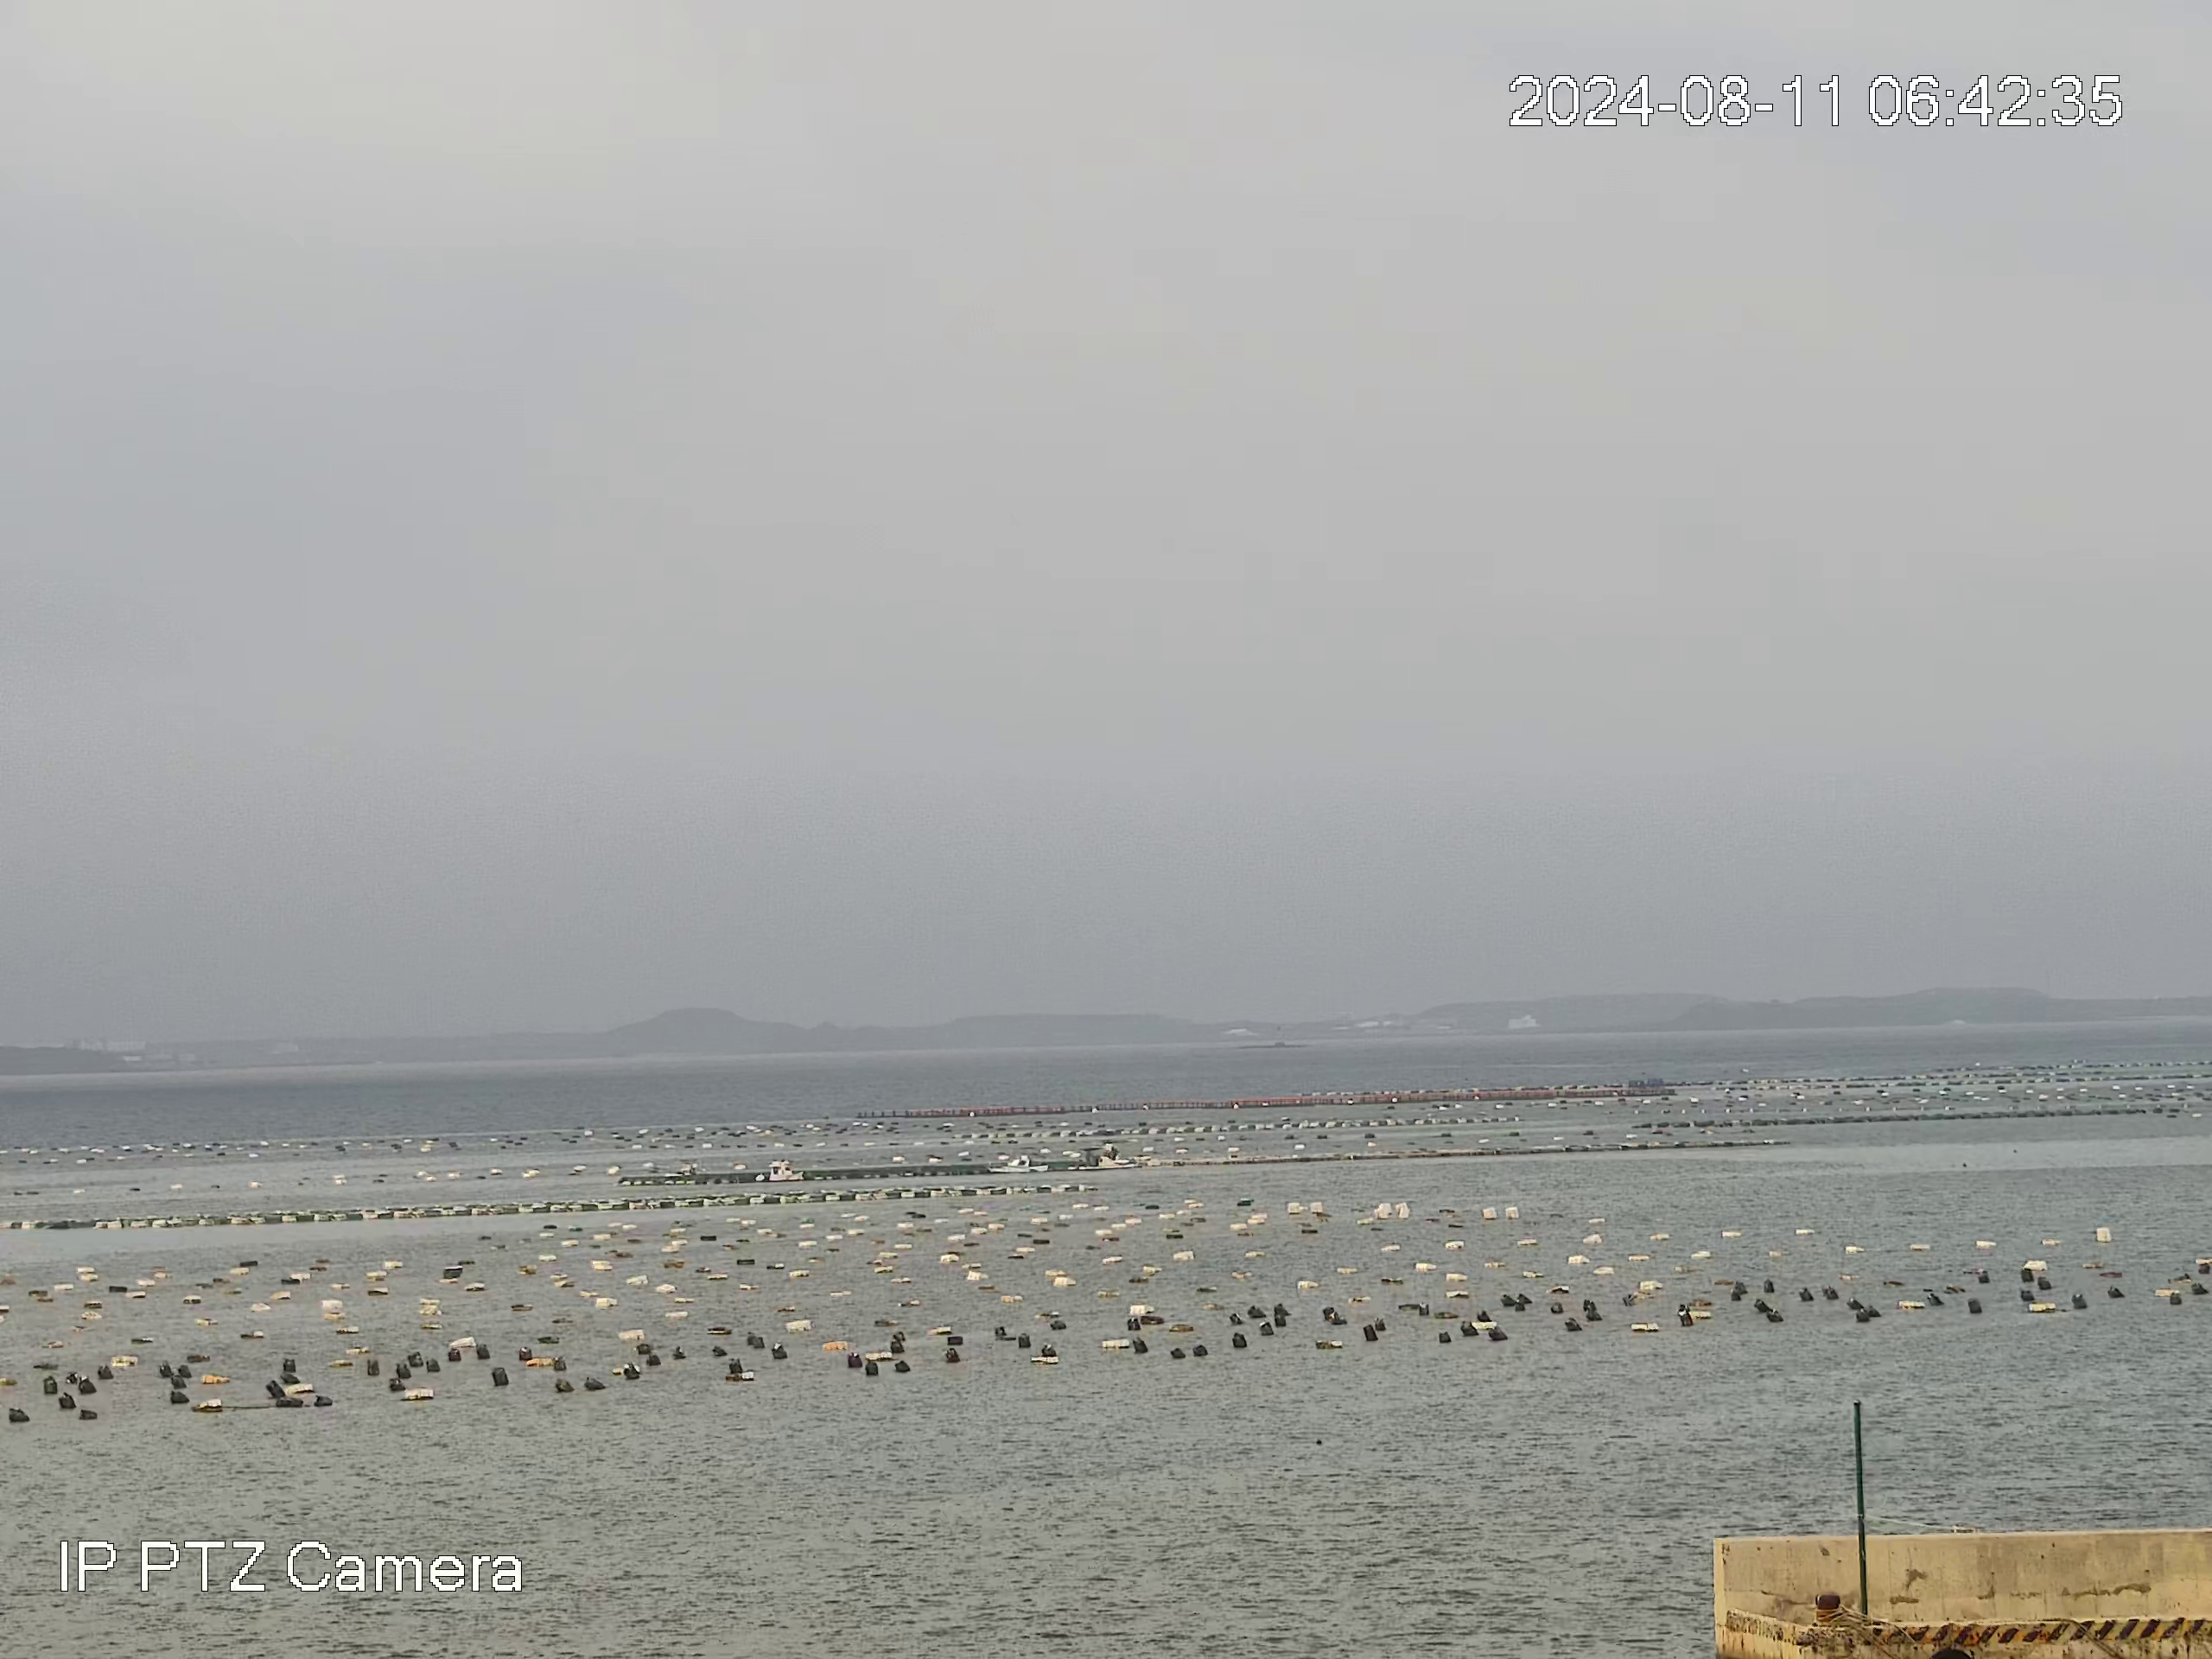boat: (986, 1152, 1050, 1175), (1066, 1147, 1120, 1171), (754, 1159, 805, 1183)
